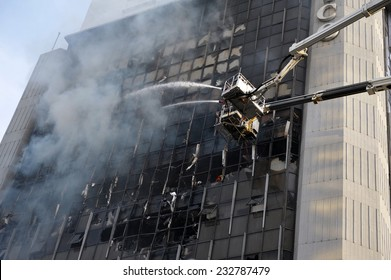smoke: (1, 1, 207, 253)
